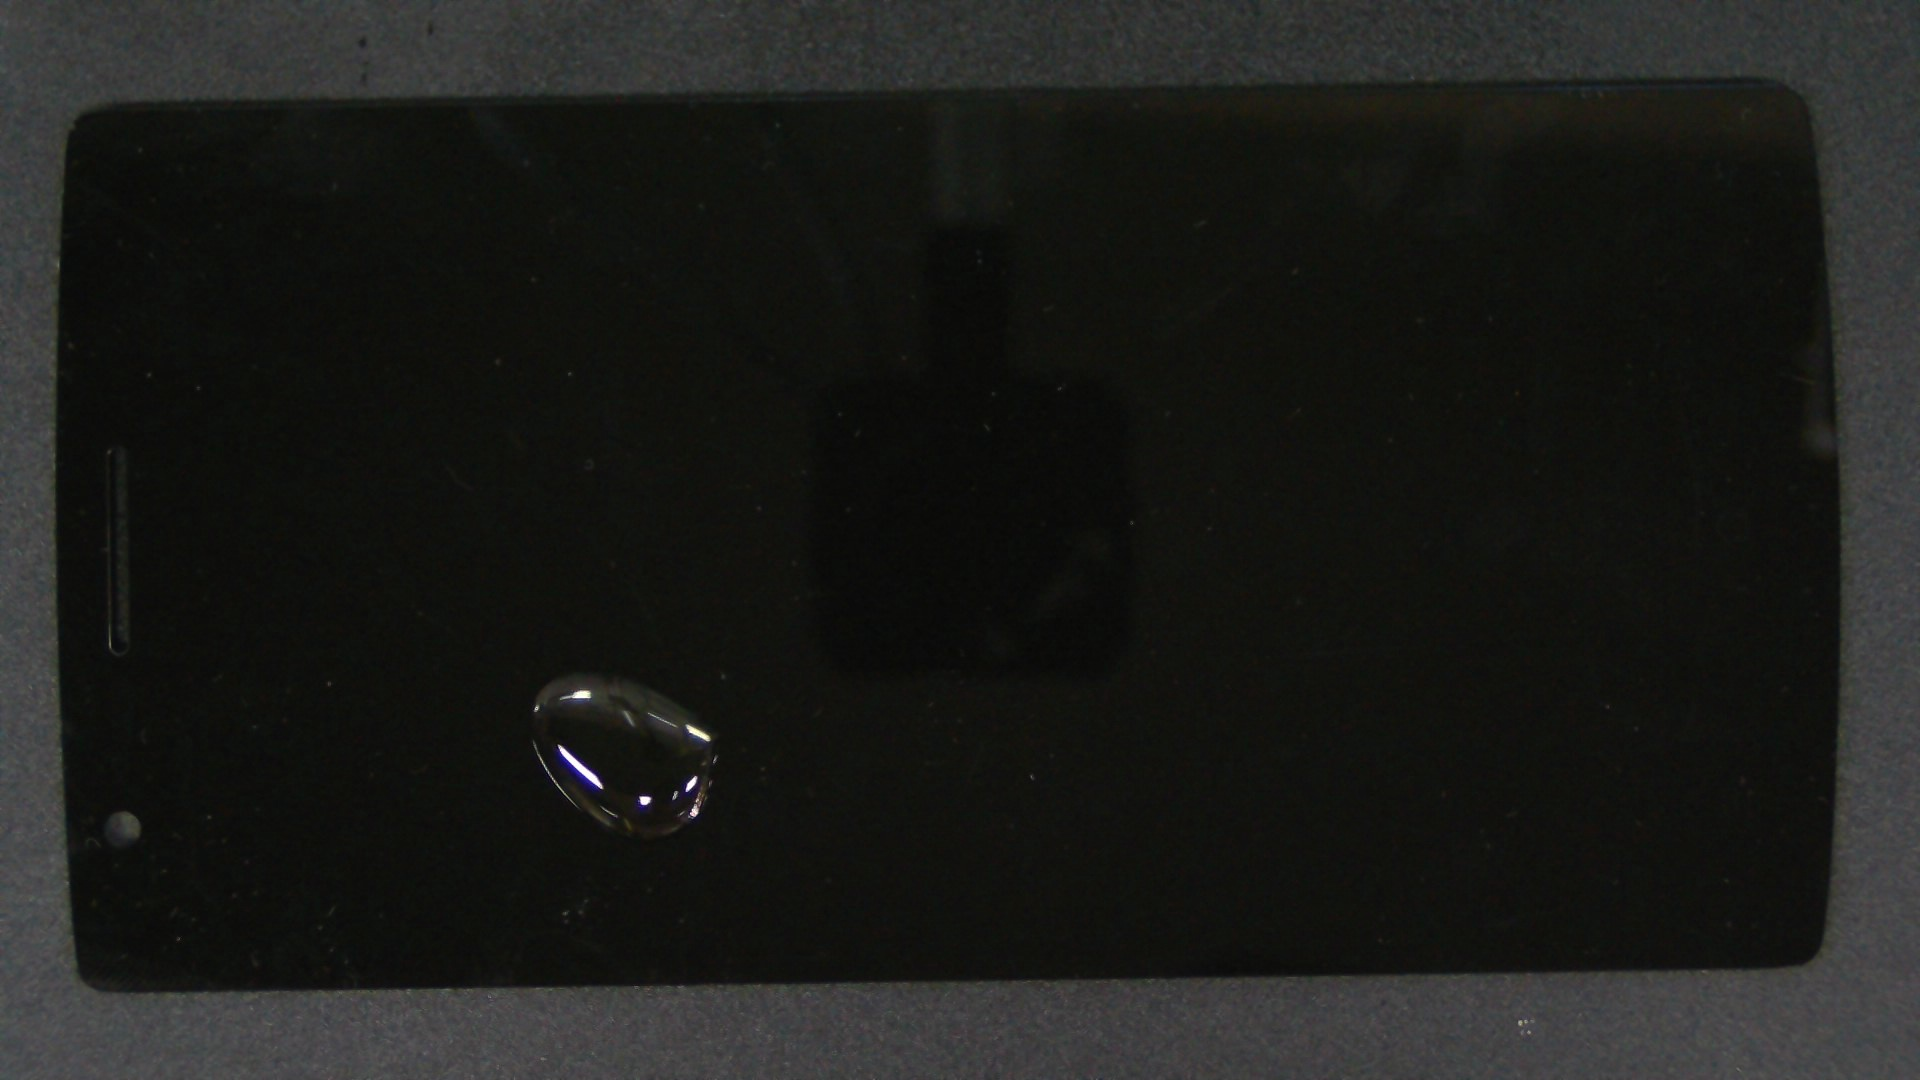oil: (294, 336, 881, 1010)
